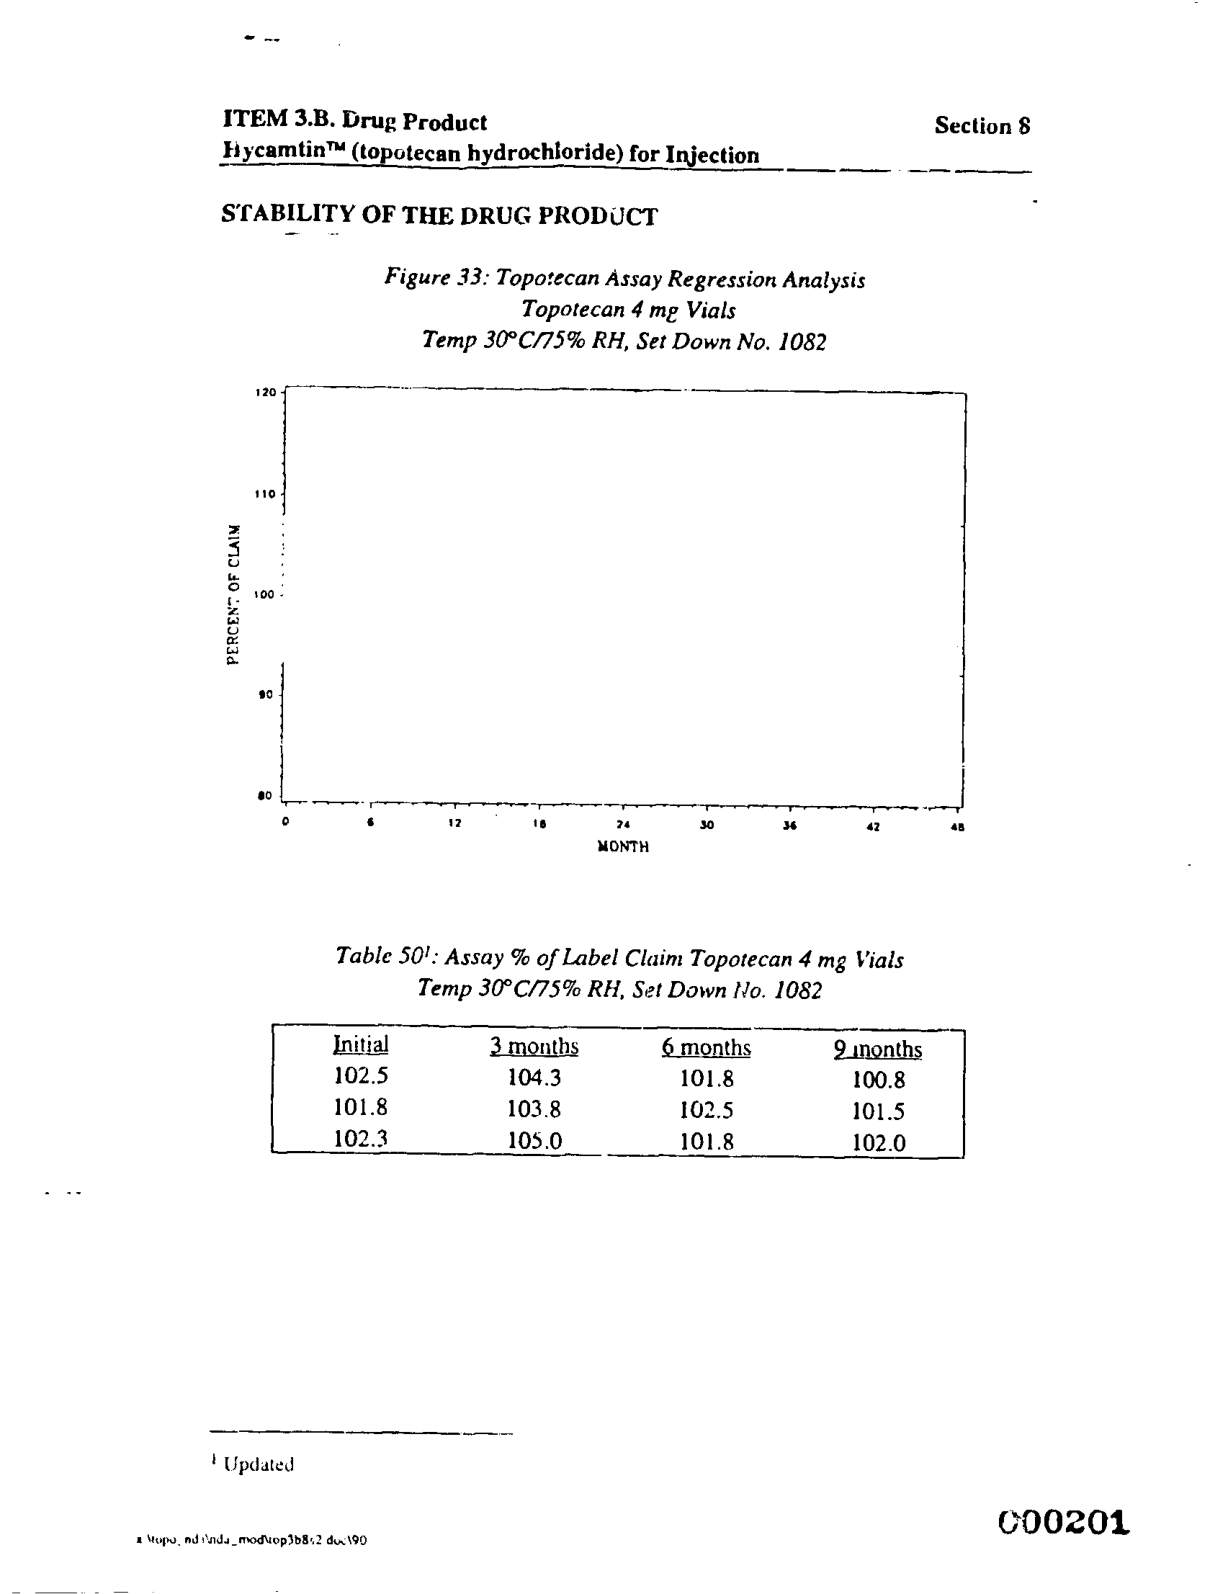partial_lined: (270, 1021, 970, 1161)
